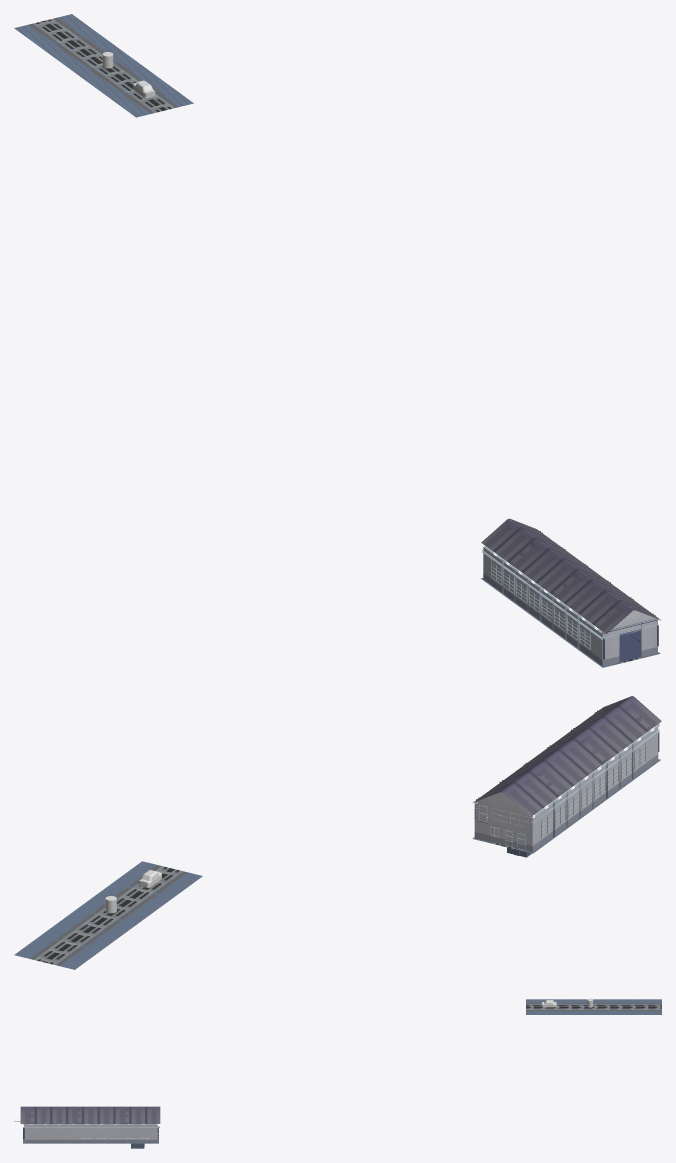
Rendered from Coco_bloq4.fbx.
3 renders of one model, top to bottom at view 1: azimuth 30°, elevation 25°; view 2: azimuth 150°, elevation 25°; view 3: azimuth 270°, elevation 25°, orthographic. The views are drawn at different scales.
Parts seen in each view (by area): view 1: techo, piso, paredes, columnas; view 2: techo, piso, paredes, columnas, ventana_LOW, piso_recorte; view 3: paredes, techo, piso, columnas, piso_recorte.
Part boxes in pixels (x1,y1,x2,y2): techo: (481, 518, 661, 634); piso: (14, 14, 193, 117); paredes: (483, 520, 657, 666); columnas: (482, 539, 658, 656); techo: (473, 696, 661, 817); piso: (14, 861, 202, 969); paredes: (474, 698, 658, 852); columnas: (474, 718, 659, 837); ventana_LOW: (479, 743, 645, 850); piso_recorte: (472, 759, 660, 857); paredes: (24, 1124, 157, 1143); techo: (20, 1106, 160, 1123); piso: (526, 999, 661, 1014); columnas: (24, 1124, 157, 1128); piso_recorte: (23, 1128, 158, 1148).
Bounding box in the file's own units: 1165 × 3892 × 16063.
